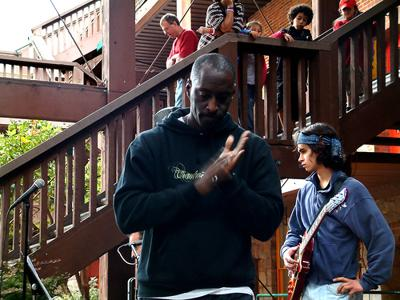person: (110, 53, 287, 300)
